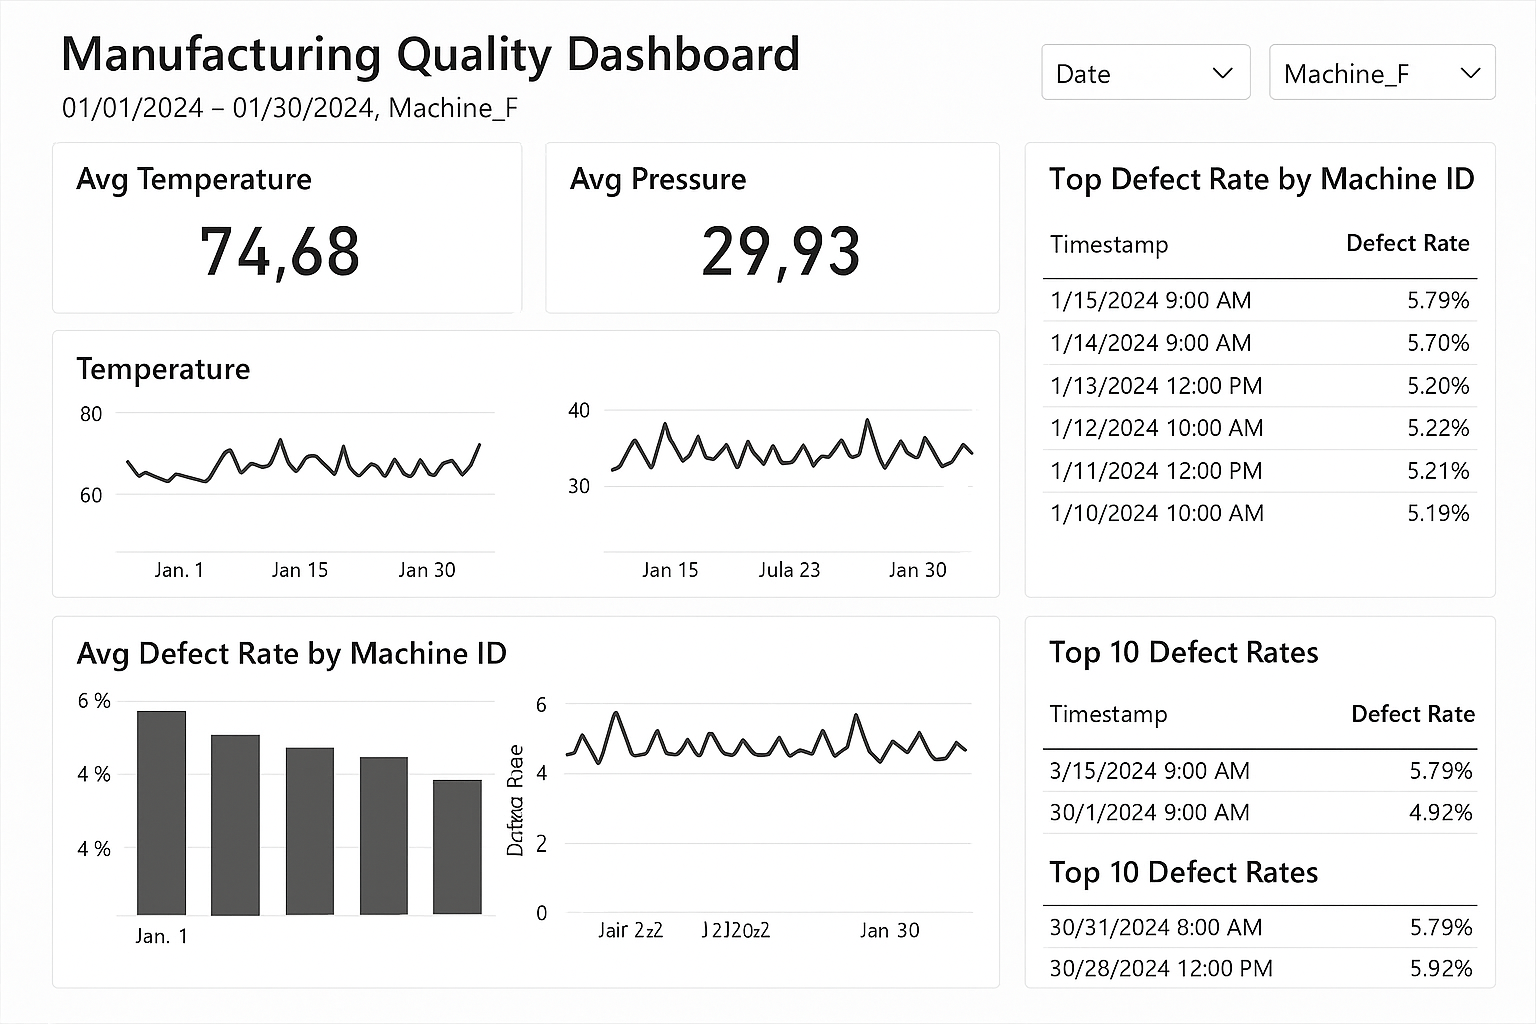

What the dashboard file says about the page in this screenshot:
{"tool":"powerbi","page":{"name":"Page 1","canvas":[1280,720],"ordinal":0},"visuals":[{"type":"textbox","box":[10.1,0,1270.7,52.2],"z":0},{"type":"card","fields":{"Values":["sensor_readings.Avg Temperature"]},"box":[11.1,90.7,241,119.4],"z":1000},{"type":"cardVisual","fields":{"Data":["sensor_readings.Avg Pressure"]},"box":[221.1,90.7,183.5,119.4],"z":2000},{"type":"cardVisual","fields":{"Data":["sensor_readings.Avg Defect Rate"]},"box":[404.6,75.2,241,150.4],"z":3000},{"type":"lineChart","fields":{"Category":["sensor_readings.timestamp"],"Y":["Avg(sensor_readings.temperature)"]},"box":[11.1,256.5,665.5,230],"z":4000},{"type":"clusteredBarChart","fields":{"Y":["sensor_readings.Avg Defect Rate"],"Category":["sensor_readings.machine_id"]},"box":[31,486.4,645.6,234.4],"z":5000},{"type":"tableEx","fields":{"Values":["sensor_readings.timestamp","sensor_readings.machine_id","Sum(sensor_readings.defect_rate)"]},"box":[835.8,210.1,444.4,479.8],"z":6000},{"type":"slicer","fields":{"Values":["sensor_readings.timestamp"]},"box":[864.6,26.5,194.6,150.4],"z":6001}]}

Visuals, with their boxes on the page's 1280x720 design canvas (x1, y1, x2, y2). These are canvas units, not pixel positions in the 1536x1024 screenshot, which may show the page scaled, cropped or inside an application window:
textbox: (10, 0, 1281, 52)
card - sensor_readings.Avg Temperature: (11, 91, 252, 210)
cardVisual - sensor_readings.Avg Pressure: (221, 91, 405, 210)
cardVisual - sensor_readings.Avg Defect Rate: (405, 75, 646, 226)
lineChart - sensor_readings.timestamp x Avg(sensor_readings.temperature): (11, 256, 677, 486)
clusteredBarChart - sensor_readings.Avg Defect Rate x sensor_readings.machine_id: (31, 486, 677, 721)
tableEx - sensor_readings.timestamp x sensor_readings.machine_id: (836, 210, 1280, 690)
slicer - sensor_readings.timestamp: (865, 26, 1059, 177)
